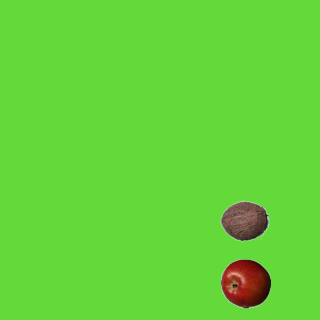Apple Braeburn: (220, 258, 270, 308)
Cocos: (219, 195, 269, 245)
